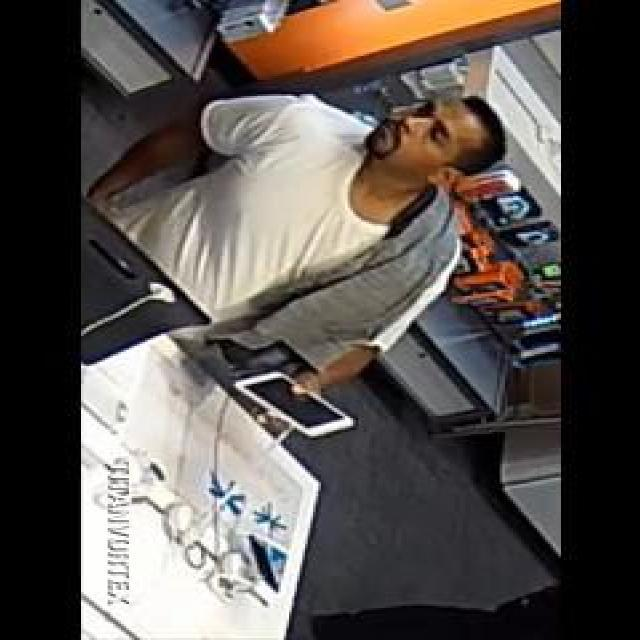Shoplifting: (84, 65, 520, 477)
